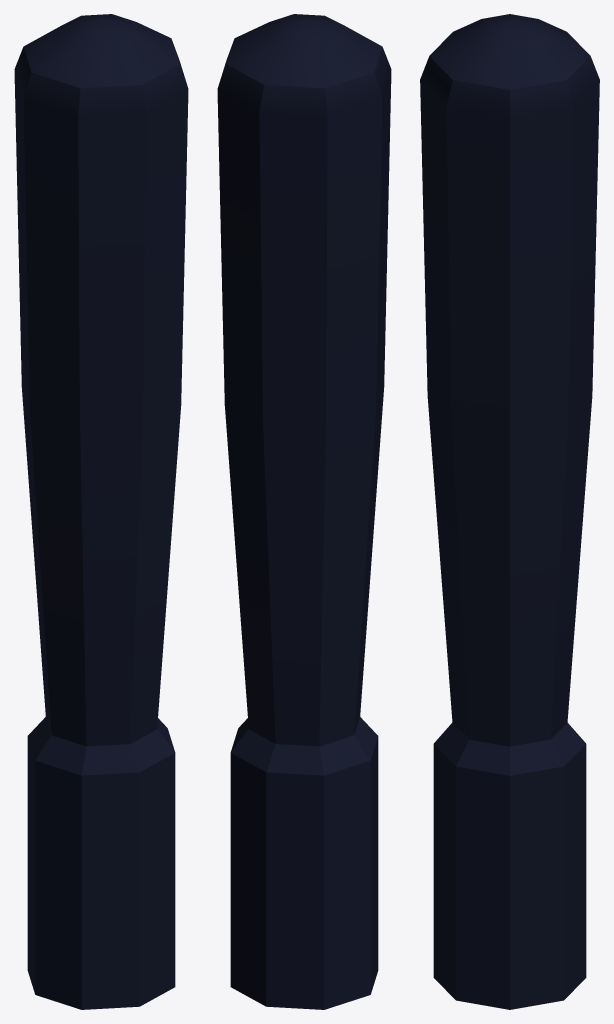
File: PoliceWeapon.fbx
The picture shows the model from 3 angles, left to right: view 1: azimuth 30°, elevation 25°; view 2: azimuth 150°, elevation 25°; view 3: azimuth 270°, elevation 25°; orthographic projection.
Parts seen in each view (by area): view 1: PoliceWeapon; view 2: PoliceWeapon; view 3: PoliceWeapon.
Boxes of the visible parts, x1,y1,x2,y2 form: PoliceWeapon: (14, 14, 188, 1009); PoliceWeapon: (217, 14, 391, 1009); PoliceWeapon: (420, 14, 599, 1009).
Bounding box in the file's own units: 69.56 × 408 × 69.56.
Materials: 1 (1 with a texture image).
